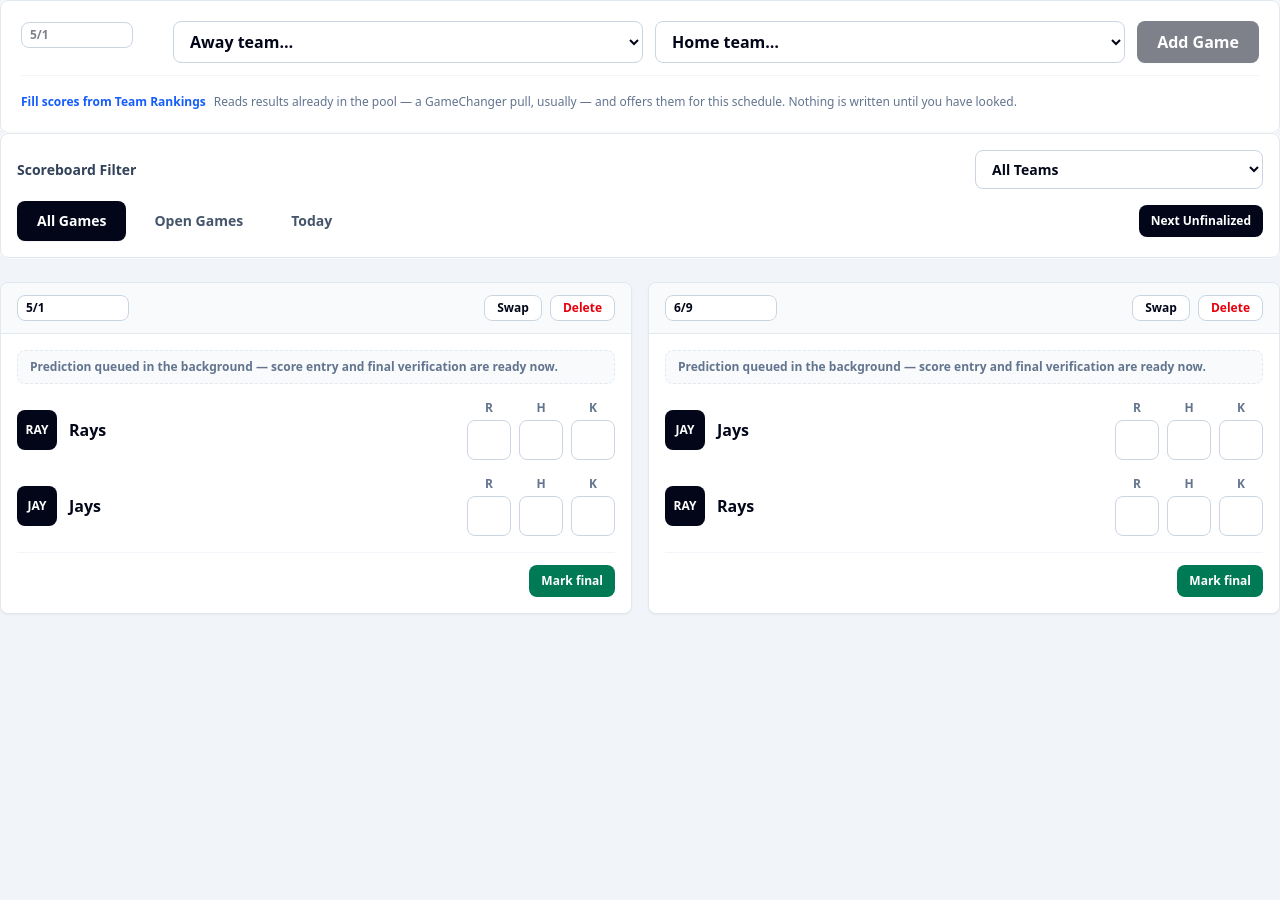
Scenario: today › shows only the games dated today
What coordinates should you click on to do the following:
click the button "Today"
I would click on:
 (312, 221)
Its box is top-left (271, 201), bottom-right (352, 241).
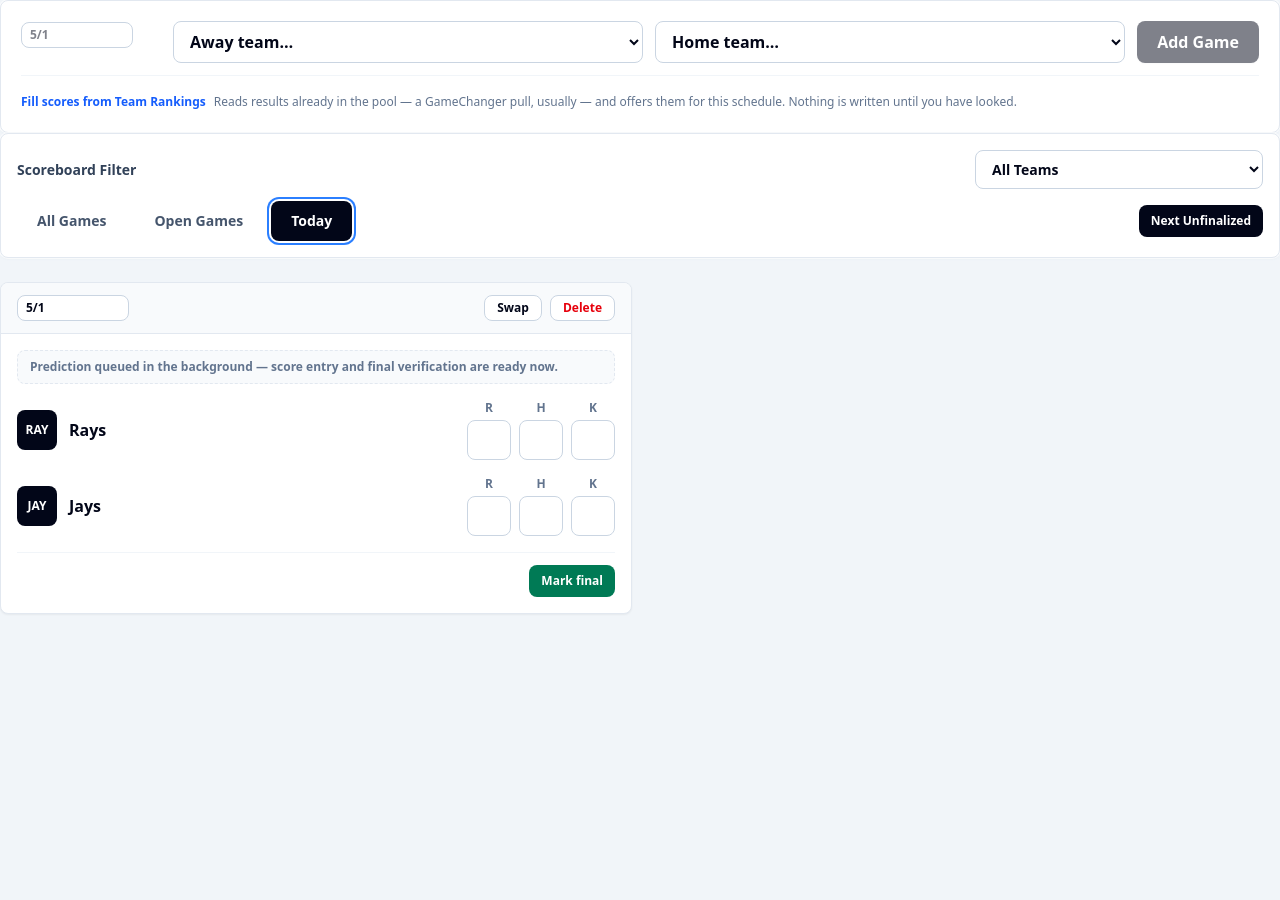
Expected: the element with id "game-card-g-today" is shown, top-left (0, 282), bottom-right (632, 614)
Expected: the element with id "game-card-g-later" is gone
